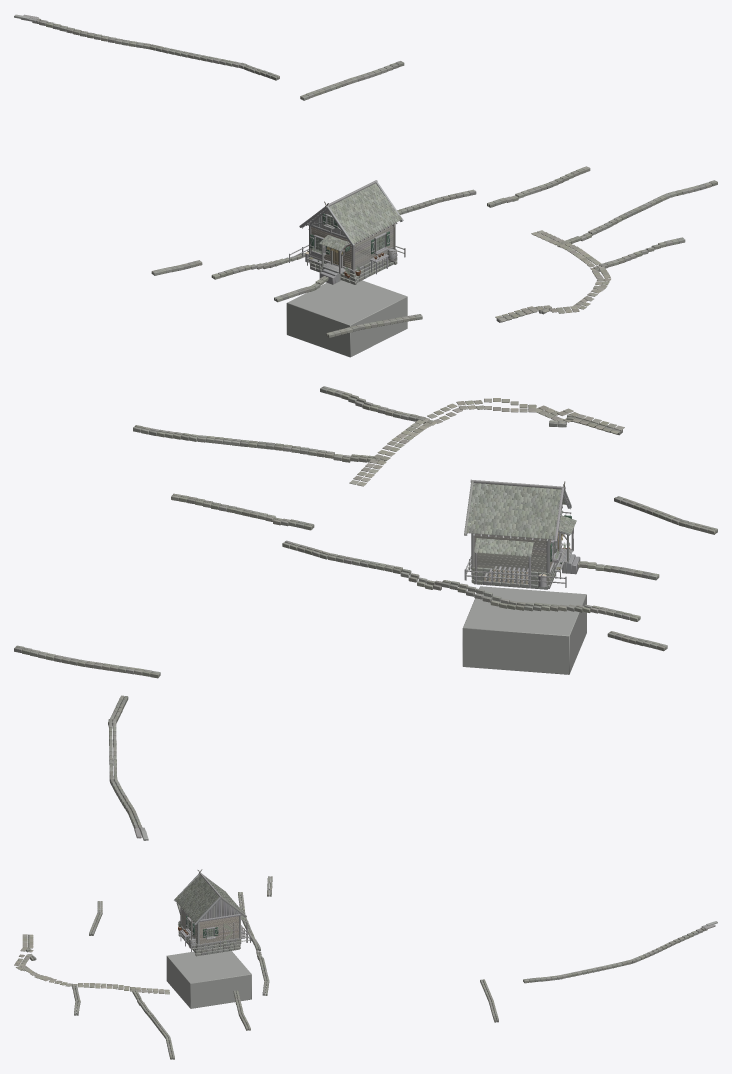
File: herbalist_placed.glb
3 views of the same model, one above another, from view 1: azimuth 30°, elevation 25°; view 2: azimuth 150°, elevation 25°; view 3: azimuth 270°, elevation 25° (orthographic). The views are drawn at different scales.
Parts seen in each view (by area): view 1: Hillside retaining terrace and flagstones__tav_stone, Hillside retaining terrace and flagstones__tav_mortar, Individual cedar roof shakes, Oak structure and weathered clapboards__cottage_wood, Stone foundation and porch steps__tav_stone, Roof rafters and carved bargeboards__tav_oak; view 2: Hillside retaining terrace and flagstones__tav_stone, Hillside retaining terrace and flagstones__tav_mortar, Individual cedar roof shakes, Oak structure and weathered clapboards__cottage_wood, Stone foundation and porch steps__tav_stone, Roof rafters and carved bargeboards__tav_oak; view 3: Hillside retaining terrace and flagstones__tav_stone, Hillside retaining terrace and flagstones__tav_mortar, Individual cedar roof shakes, Oak structure and weathered clapboards__cottage_wood, Stone foundation and porch steps__tav_stone, Roof rafters and carved bargeboards__tav_oak, Oak structure and weathered clapboards__tav_oak.
Part boxes in pixels (left/top/right/bottom): Hillside retaining terrace and flagstones__tav_stone: left=14, top=14, right=717, bottom=337; Hillside retaining terrace and flagstones__tav_mortar: left=286, top=280, right=407, bottom=357; Individual cedar roof shakes: left=308, top=183, right=401, bottom=250; Oak structure and weathered clapboards__cottage_wood: left=311, top=211, right=393, bottom=269; Stone foundation and porch steps__tav_stone: left=308, top=254, right=397, bottom=284; Roof rafters and carved bargeboards__tav_oak: left=299, top=180, right=403, bottom=246; Hillside retaining terrace and flagstones__tav_stone: left=14, top=386, right=717, bottom=840; Hillside retaining terrace and flagstones__tav_mortar: left=462, top=586, right=586, bottom=674; Individual cedar roof shakes: left=466, top=483, right=576, bottom=556; Oak structure and weathered clapboards__cottage_wood: left=472, top=499, right=554, bottom=572; Stone foundation and porch steps__tav_stone: left=471, top=547, right=580, bottom=589; Roof rafters and carved bargeboards__tav_oak: left=464, top=479, right=571, bottom=541; Hillside retaining terrace and flagstones__tav_stone: left=14, top=876, right=717, bottom=1059; Hillside retaining terrace and flagstones__tav_mortar: left=166, top=951, right=251, bottom=1008; Individual cedar roof shakes: left=175, top=874, right=248, bottom=922; Oak structure and weathered clapboards__cottage_wood: left=181, top=899, right=239, bottom=943; Stone foundation and porch steps__tav_stone: left=178, top=925, right=241, bottom=956; Roof rafters and carved bargeboards__tav_oak: left=174, top=869, right=246, bottom=925; Oak structure and weathered clapboards__tav_oak: left=180, top=901, right=241, bottom=946.
Size of the model in its own units: 53.59 by 14.35 by 82.78.
